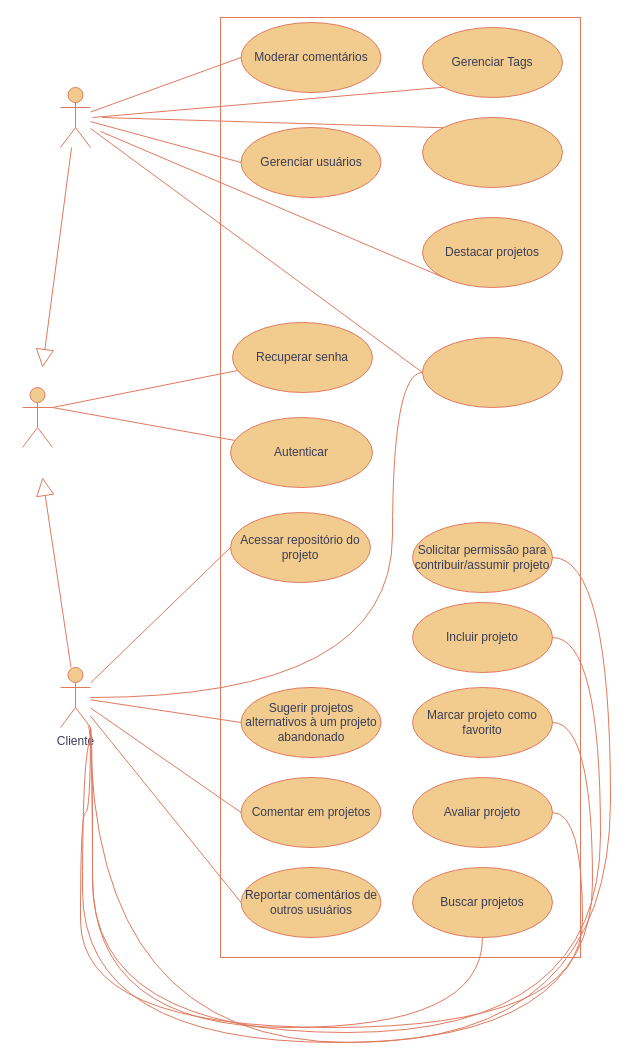
The diagram is 628 pixels wide and 1060 high, and some of its shapes have lost their labels. The centre of each missing label's shape, as x and y in pixels:
"Administrador" goes at point (75, 117).
"Gerenciar projetos" goes at point (492, 372).
"Gerenciar tecnologias" goes at point (492, 152).
"Usuário" goes at point (37, 417).
